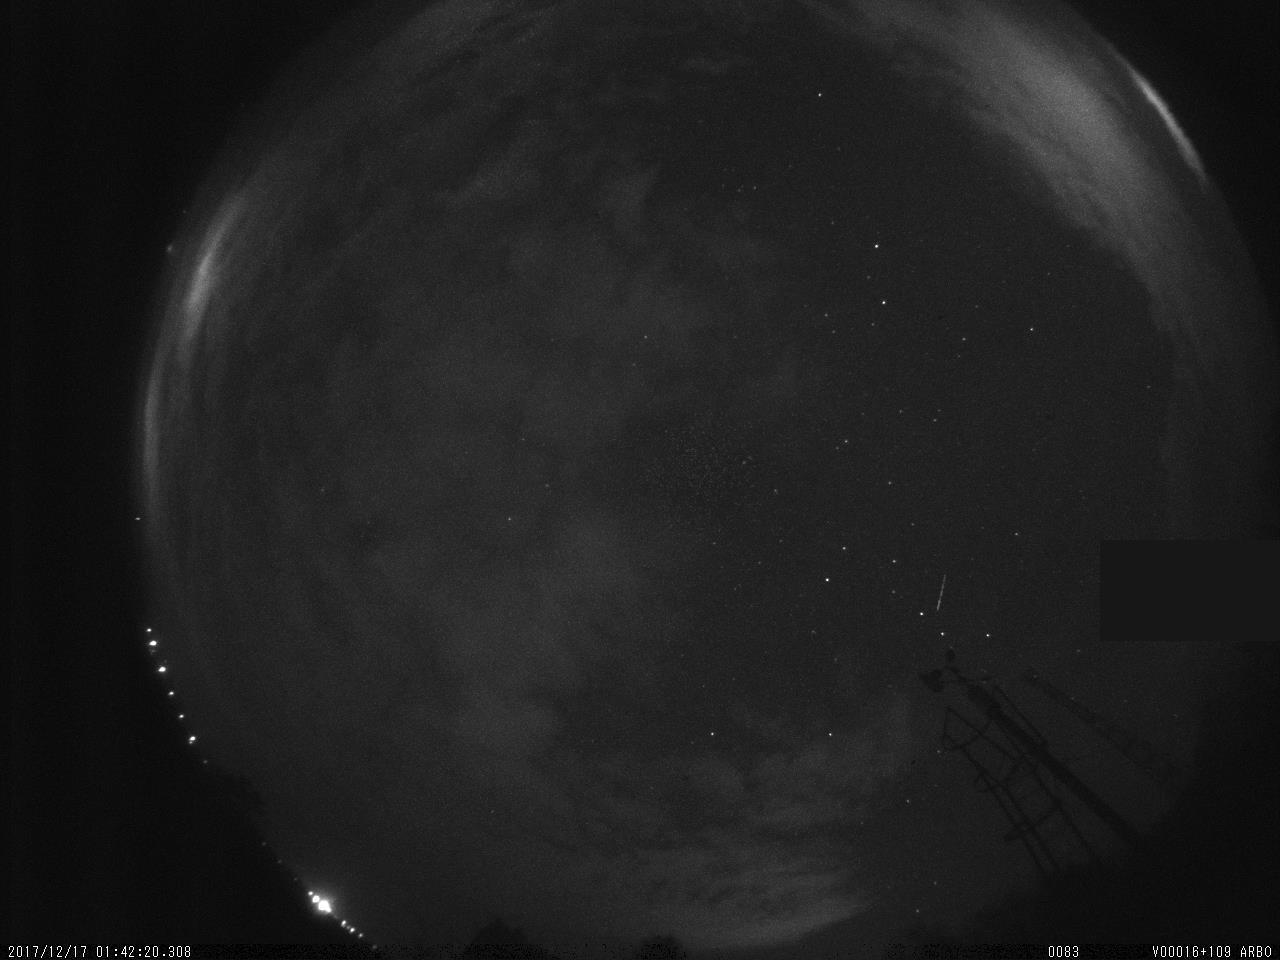meteor: (910, 567, 969, 625)
